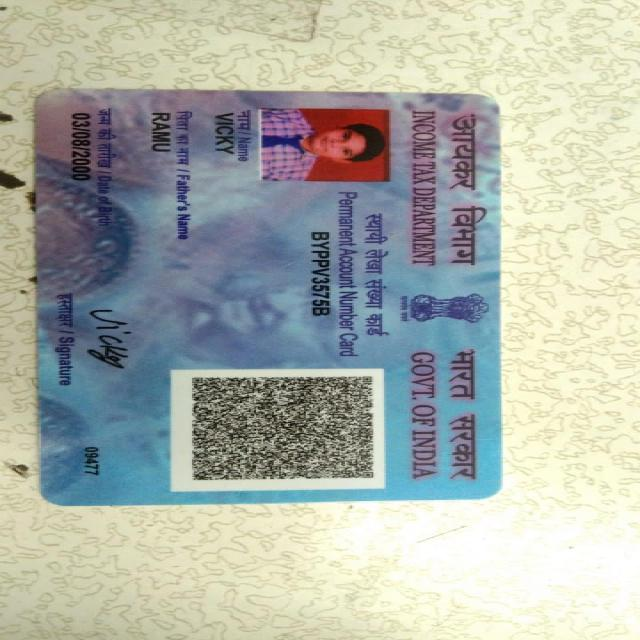pan_card: (32, 92, 499, 507)
